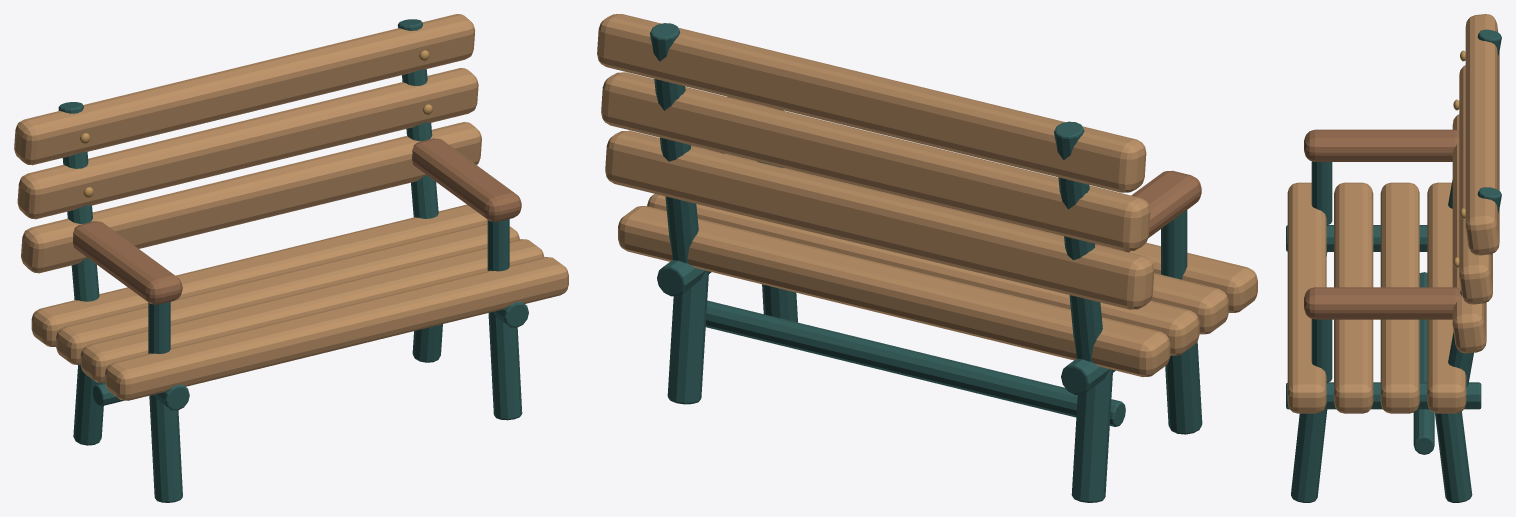
The model's file is wood_bench.glb.
The picture shows the model from 3 angles, left to right: view 1: azimuth 30°, elevation 25°; view 2: azimuth 150°, elevation 25°; view 3: azimuth 270°, elevation 25°; orthographic projection. The views are drawn at different scales.
Parts seen in each view (by area): view 1: Bench • back slat.002, Bench • back slat.001, Bench • seat slat, Bench • back slat, Bench • seat slat.002, Bench • seat slat.001, Bench • seat slat.003, Bench • wooden armrest, Bench • wooden armrest.001, Bench • splayed leg, Bench • splayed leg.002, Bench • back support.001 (+7 smaller); view 2: Bench • back slat, Bench • back slat.001, Bench • back slat.002, Bench • seat slat.003, Bench • lower stretcher, Bench • seat slat.002, Bench • splayed leg.003, Bench • splayed leg.001, Bench • back support.001, Bench • back support, Bench • seat slat, Bench • splayed leg (+6 smaller); view 3: Bench • seat slat.001, Bench • seat slat.002, Bench • back slat.002, Bench • seat slat, Bench • seat slat.003, Bench • wooden armrest.001, Bench • wooden armrest, Bench • back slat.001, Bench • back slat, Bench • splayed leg.002, Bench • splayed leg.003, Bench • lower stretcher (+6 smaller).
Boxes of the visible parts, box(x1,y1,x2,y2) form: Bench • back slat.002: box(14, 14, 475, 165); Bench • back slat.001: box(17, 68, 478, 219); Bench • seat slat: box(105, 257, 568, 400); Bench • back slat: box(21, 122, 481, 273); Bench • seat slat.002: box(56, 223, 519, 364); Bench • seat slat.001: box(80, 239, 544, 382); Bench • seat slat.003: box(31, 204, 487, 346); Bench • wooden armrest: box(73, 221, 182, 304); Bench • wooden armrest.001: box(412, 138, 521, 221); Bench • splayed leg: box(149, 394, 182, 502); Bench • splayed leg.002: box(488, 312, 522, 420); Bench • back support.001: box(397, 19, 438, 218); Bench • back slat: box(605, 130, 1154, 309); Bench • back slat.001: box(601, 72, 1150, 250); Bench • back slat.002: box(597, 14, 1146, 192); Bench • seat slat.003: box(618, 206, 1170, 376); Bench • lower stretcher: box(705, 300, 1125, 426); Bench • seat slat.002: box(647, 194, 1199, 355); Bench • splayed leg.003: box(667, 271, 708, 404); Bench • splayed leg.001: box(1071, 369, 1112, 502); Bench • back support.001: box(650, 23, 698, 263); Bench • back support: box(1054, 121, 1102, 362); Bench • seat slat: box(725, 153, 1257, 312); Bench • splayed leg: box(1165, 341, 1202, 434); Bench • seat slat.001: box(1334, 182, 1373, 413); Bench • seat slat.002: box(1380, 182, 1419, 413); Bench • back slat.002: box(1465, 14, 1499, 255); Bench • seat slat: box(1287, 182, 1326, 413); Bench • seat slat.003: box(1427, 182, 1466, 413); Bench • wooden armrest.001: box(1304, 287, 1461, 319); Bench • wooden armrest: box(1304, 129, 1459, 161); Bench • back slat.001: box(1459, 65, 1492, 304); Bench • back slat: box(1452, 114, 1486, 353); Bench • splayed leg.002: box(1291, 409, 1327, 502); Bench • splayed leg.003: box(1435, 411, 1472, 502); Bench • lower stretcher: box(1413, 272, 1434, 454).
Bounding box in the file's own units: 1.65 × 1.13 × 0.7185.
